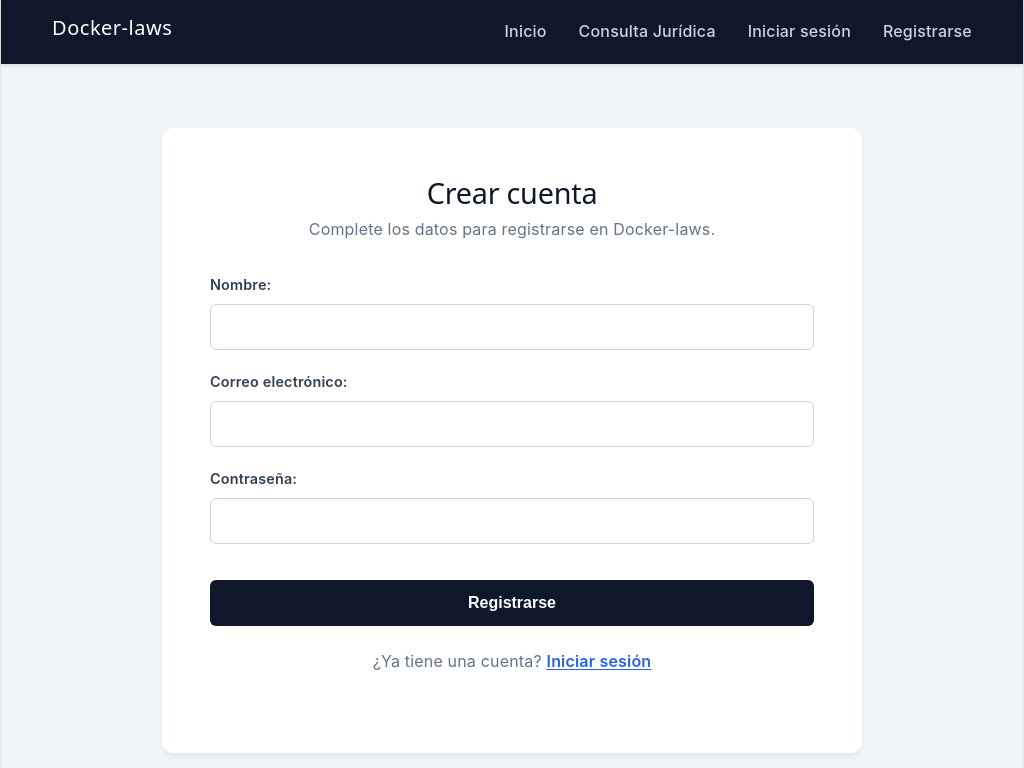
Test: informa que la cuenta ya existe tras un alta exitosa y un fallo de acceso posterior
Type "Cuenta ficticia" into the field labelled "Nombre:" at (512, 327), box x1=210 y1=304 x2=814 y2=350
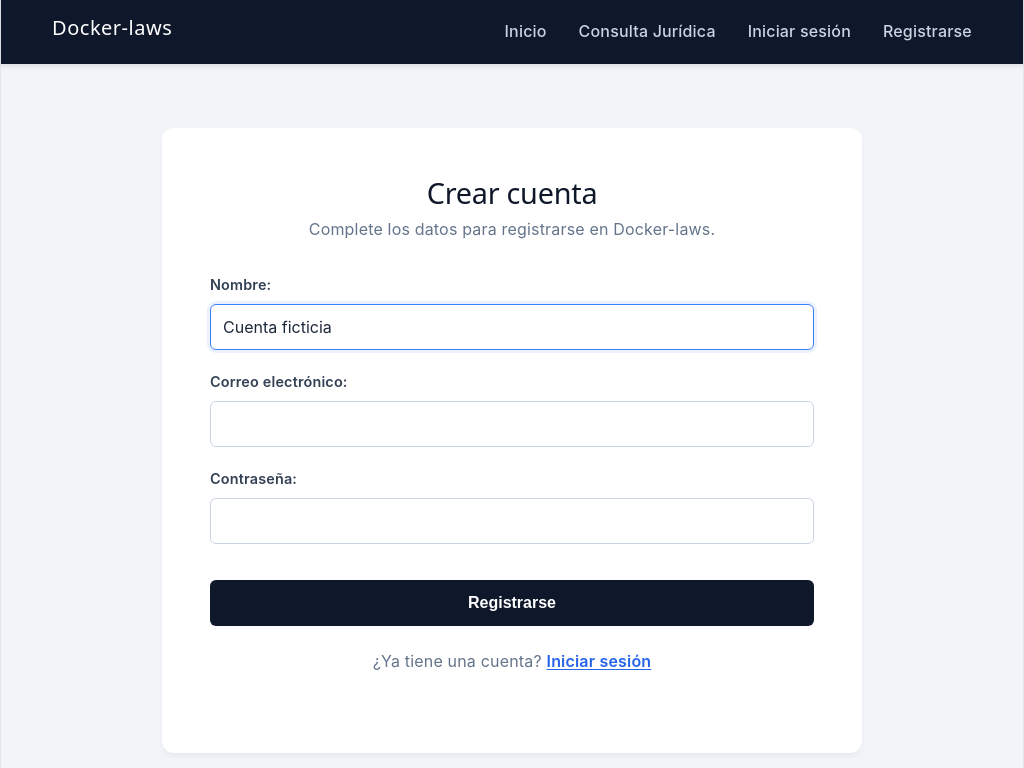
Type "cuenta@ejemplo.invalid" into the field labelled "Correo electrónico:" at (512, 424), box x1=210 y1=401 x2=814 y2=447
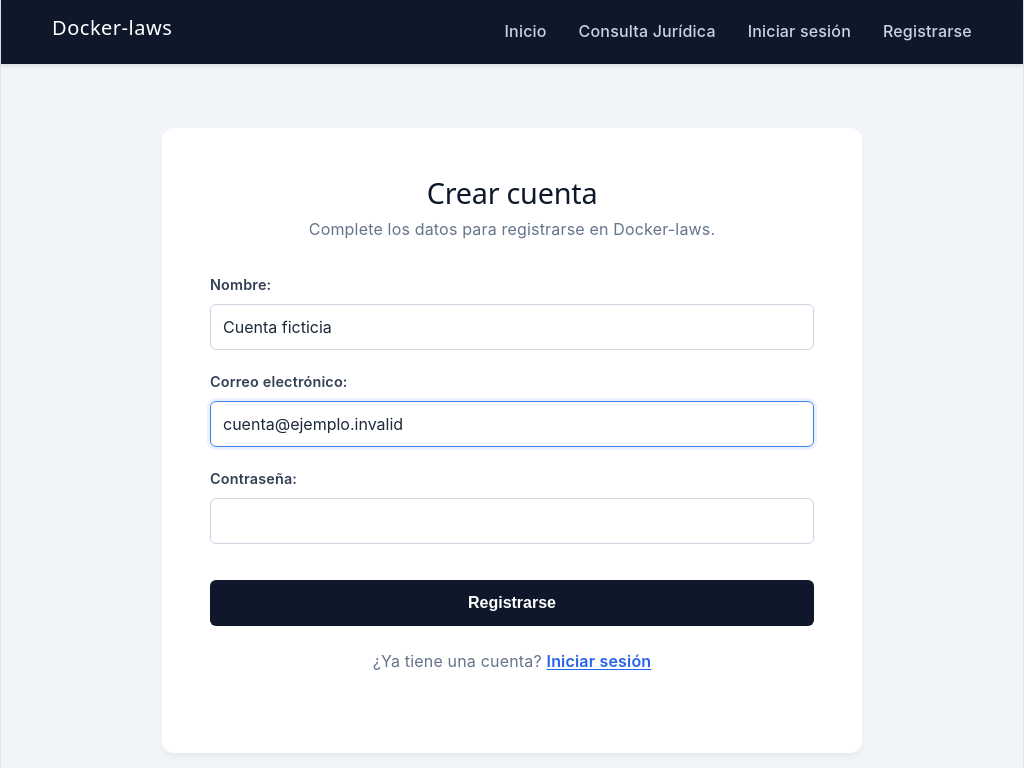
Type "ClaveFicticiaDePrueba" into the password field labelled "Contraseña:" at (512, 521), box x1=210 y1=498 x2=814 y2=544
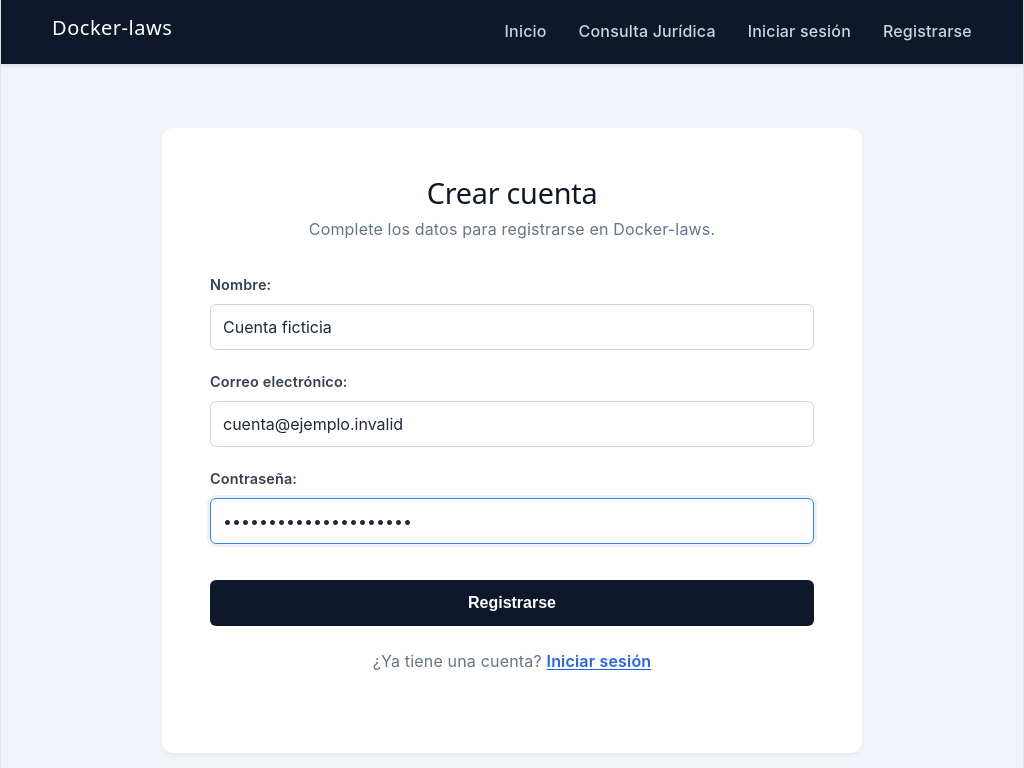
Click the button "Registrarse" at (512, 603), box x1=210 y1=580 x2=814 y2=626
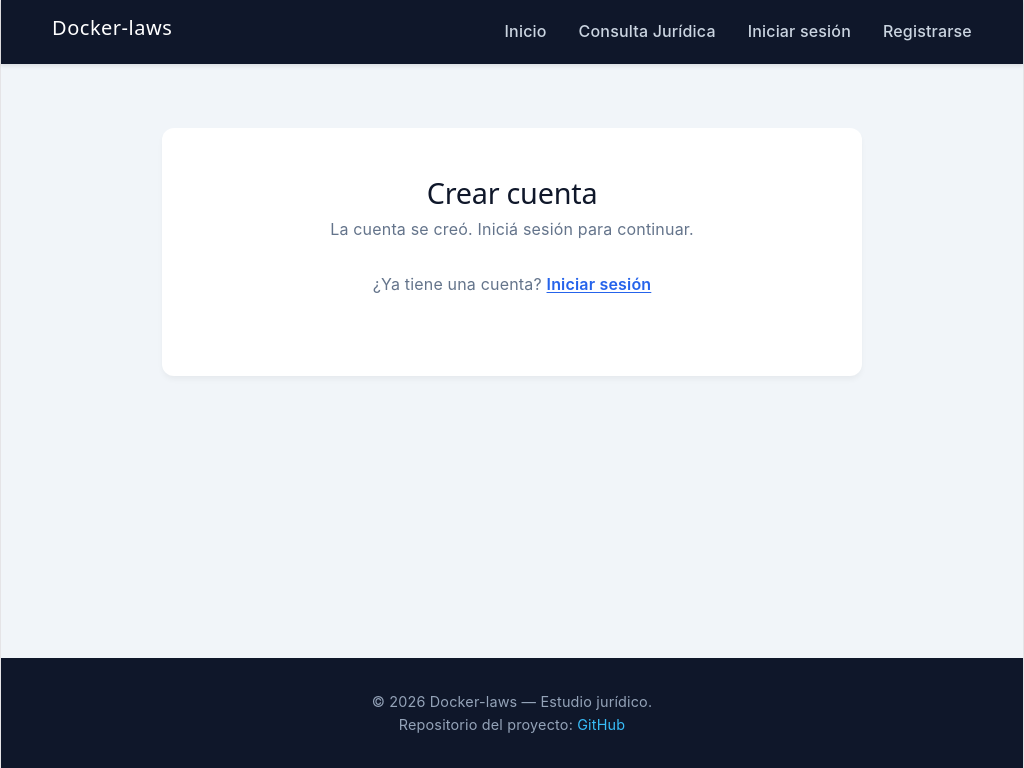
Expected: the message reads "La cuenta se creó. Iniciá sesión para continuar.", x1=330 y1=219 x2=694 y2=239
